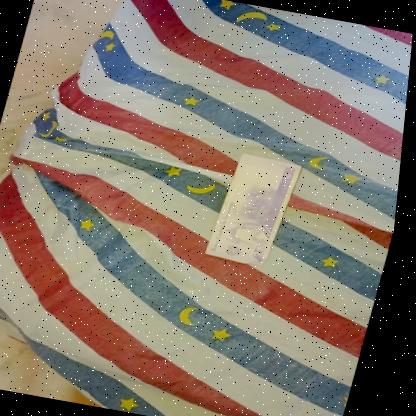ten-back-vef: (206, 150, 307, 274)
